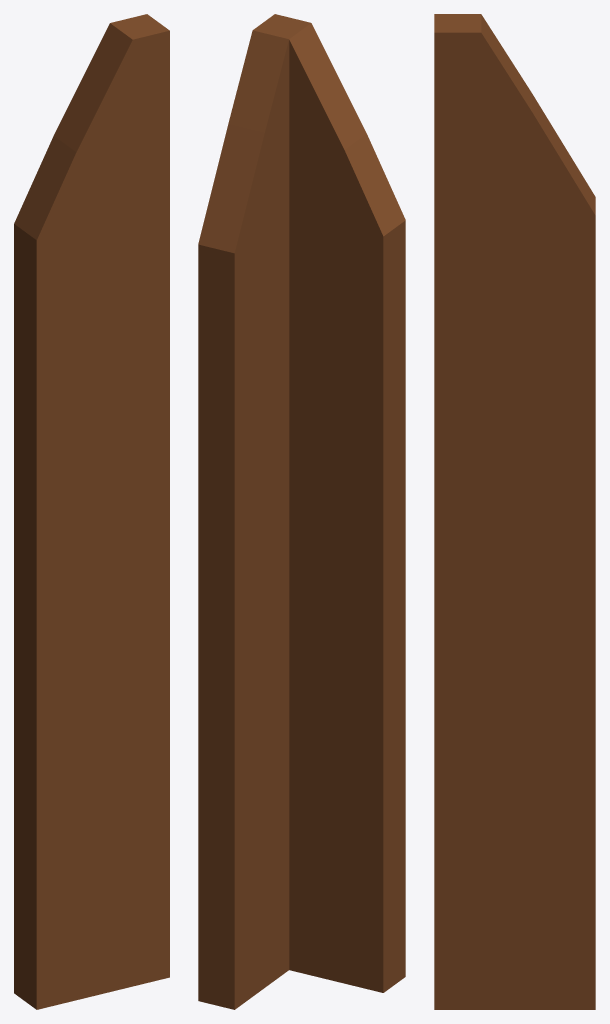
Rendered from CornerFenceConnected.fbx.
3 renders of one model, left to right at view 1: azimuth 30°, elevation 25°; view 2: azimuth 150°, elevation 25°; view 3: azimuth 270°, elevation 25°, orthographic. The views are drawn at different scales.
Parts seen in each view (by area): view 1: Cube; view 2: Cube; view 3: Cube.
Boxes of the visible parts, <box> form: Cube: <box>14,14,169,1009</box>; Cube: <box>198,14,405,1009</box>; Cube: <box>434,14,595,1009</box>.
Bounding box in the file's own units: 63.46 × 431 × 64.5.
